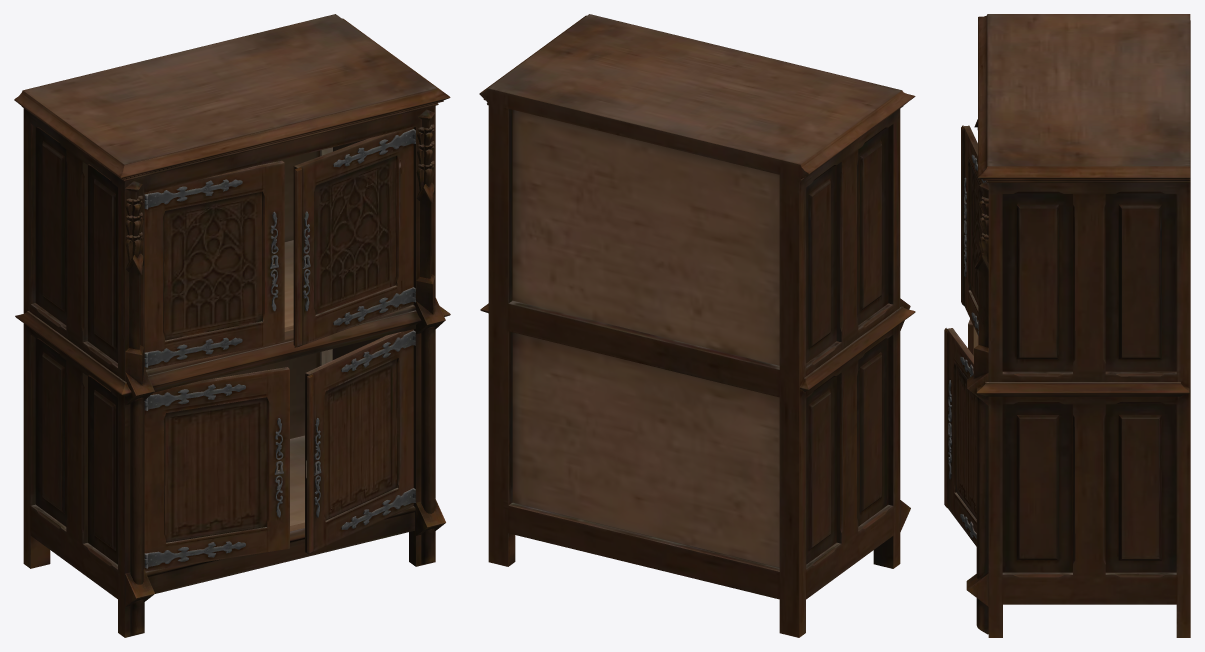
File: GothicCabinet_01.glb
3 renders of one model, left to right at view 1: azimuth 30°, elevation 25°; view 2: azimuth 150°, elevation 25°; view 3: azimuth 270°, elevation 25°, orthographic.
Parts seen in each view (by area): view 1: GothicCabinet_01_cabinet, GothicCabinet_01_door3, GothicCabinet_01_door1, GothicCabinet_01_door2, GothicCabinet_01_door4; view 2: GothicCabinet_01_cabinet; view 3: GothicCabinet_01_cabinet, GothicCabinet_01_door4, GothicCabinet_01_door2.
Boxes of the visible parts, x1=… form: GothicCabinet_01_cabinet: x1=14, y1=14, x2=450, y2=637; GothicCabinet_01_door3: x1=144, y1=367, x2=289, y2=571; GothicCabinet_01_door1: x1=144, y1=160, x2=284, y2=369; GothicCabinet_01_door2: x1=293, y1=127, x2=415, y2=347; GothicCabinet_01_door4: x1=305, y1=329, x2=415, y2=554; GothicCabinet_01_cabinet: x1=479, y1=14, x2=915, y2=637; GothicCabinet_01_cabinet: x1=966, y1=14, x2=1190, y2=637; GothicCabinet_01_door4: x1=944, y1=328, x2=976, y2=546; GothicCabinet_01_door2: x1=961, y1=125, x2=986, y2=335.
Size of the model in its own units: 1.72 by 2.36 by 1.12.
1 material, 1 textured.
